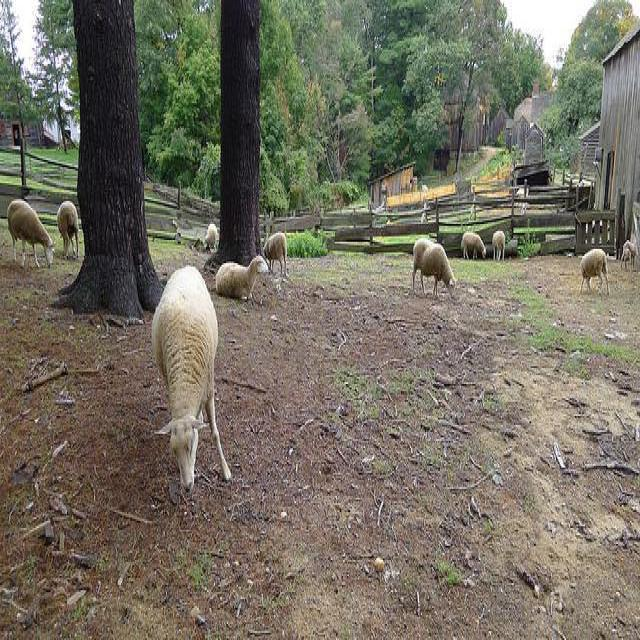Sheep: (153, 265, 232, 492), (6, 197, 58, 274), (413, 238, 458, 300)
